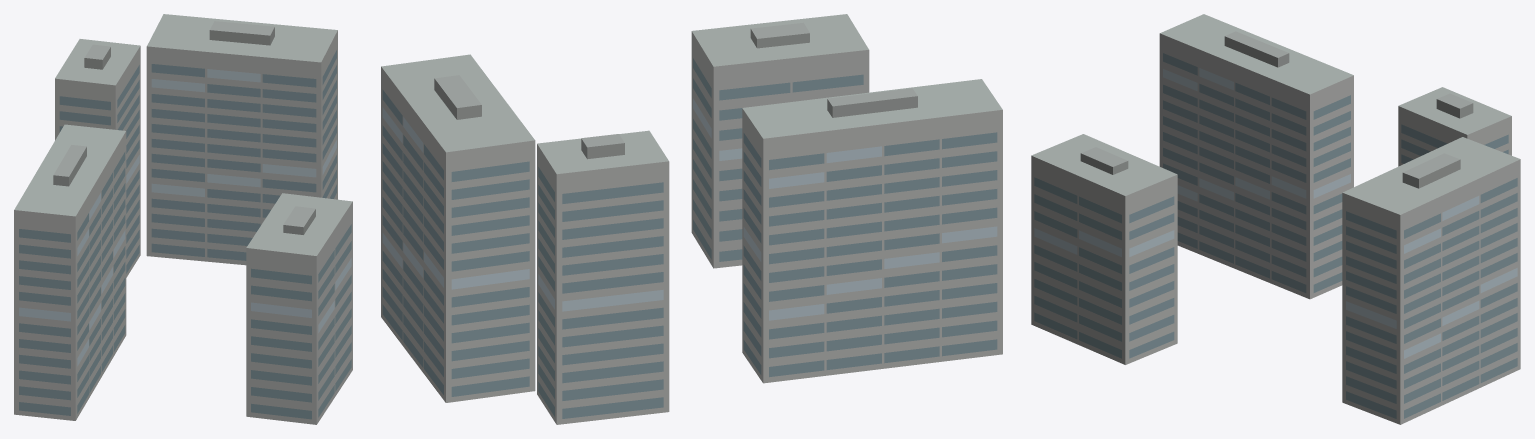
File: apt-a10025018.glb
The picture shows the model from 3 angles, left to right: view 1: azimuth 30°, elevation 25°; view 2: azimuth 150°, elevation 25°; view 3: azimuth 270°, elevation 25°; orthographic projection. The views are drawn at different scales.
Visible parts, largest first — view 1: apt-a10025018; view 2: apt-a10025018; view 3: apt-a10025018.
Boxes of the visible parts, bbox=[...] form: apt-a10025018: bbox=[14, 14, 352, 424]; apt-a10025018: bbox=[381, 14, 1002, 424]; apt-a10025018: bbox=[1031, 14, 1520, 424].
Size of the model in its own units: 82.43 by 41 by 82.73.
